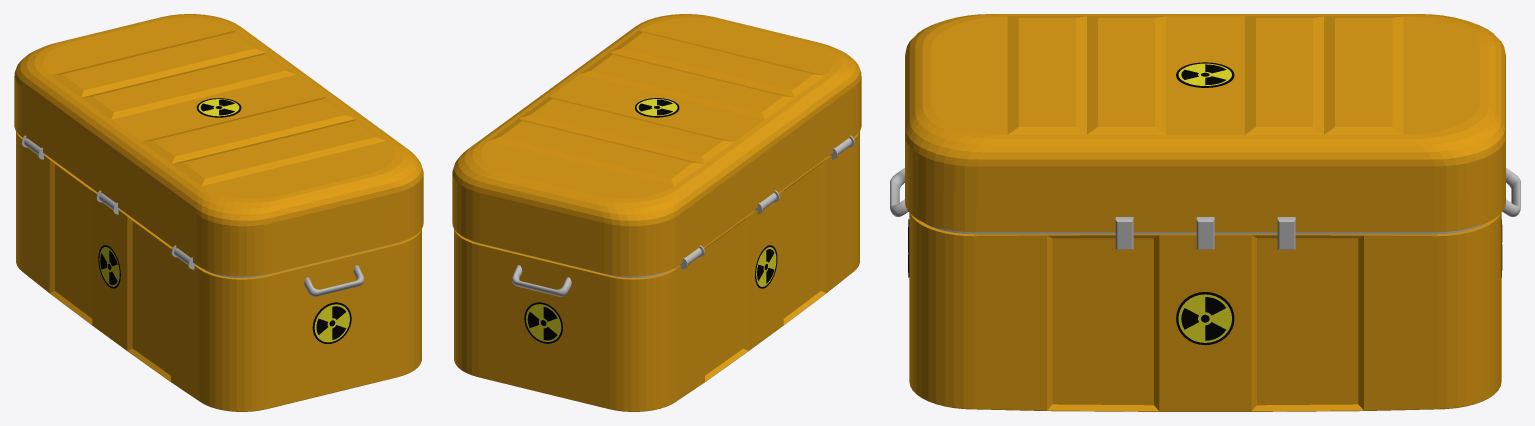
File: radiactive_case.fbx
3 views of the same model, side by side, from view 1: azimuth 30°, elevation 25°; view 2: azimuth 150°, elevation 25°; view 3: azimuth 270°, elevation 25° (orthographic). The views are drawn at different scales.
Visible parts, largest first — view 1: Cube; view 2: Cube; view 3: Cube.
Boxes of the visible parts, <box> form: Cube: <box>14,14,423,411</box>; Cube: <box>452,14,861,411</box>; Cube: <box>890,14,1520,411</box>.
Size of the model in its own units: 51.73 by 45.89 by 94.27.
